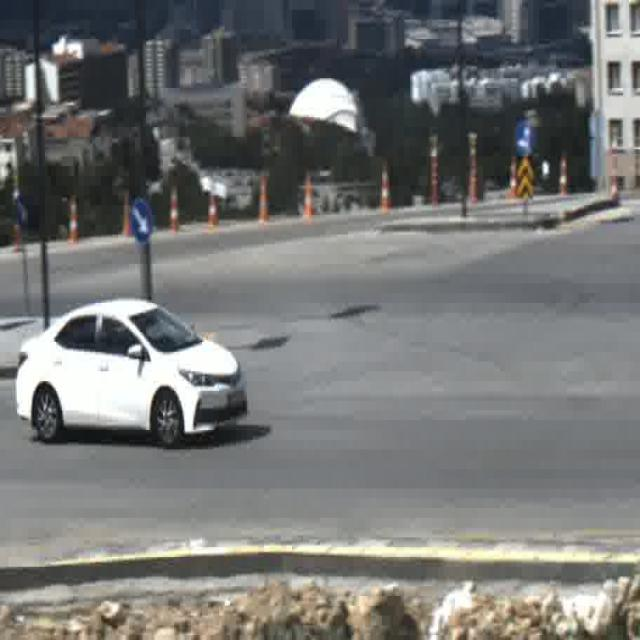Car: (16, 299, 249, 444)
